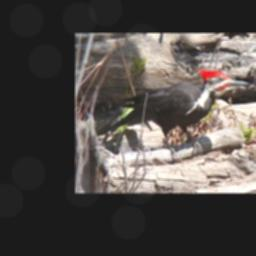Woodpecker: (96, 68, 251, 160)
